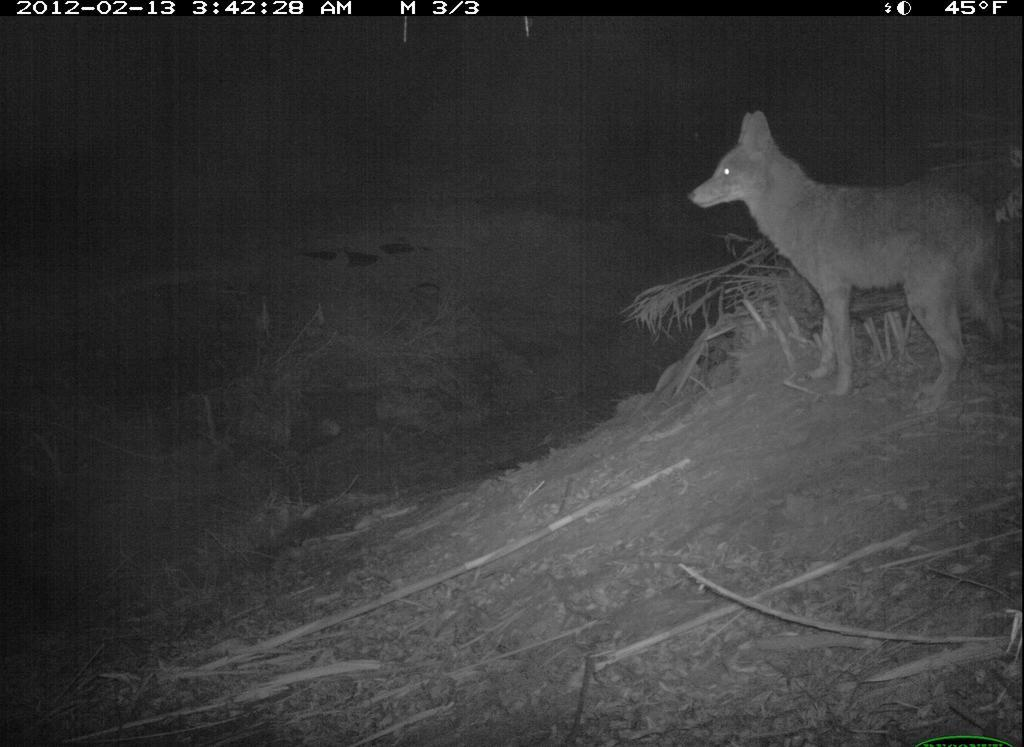coyote: (683, 100, 1018, 429)
